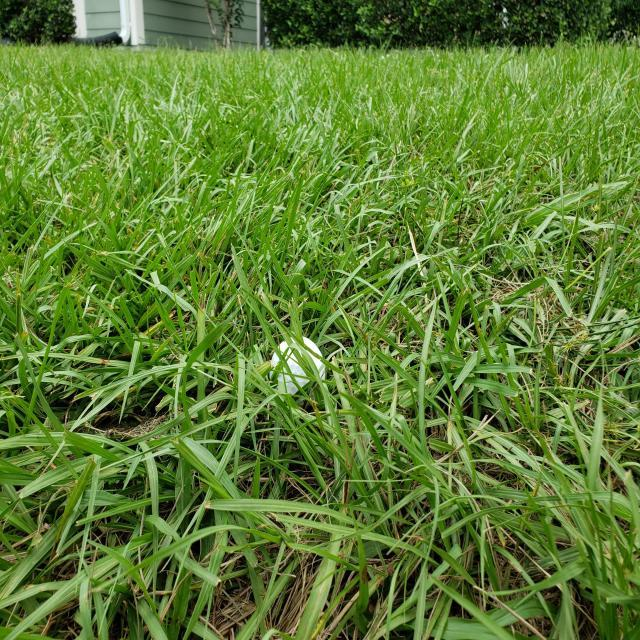golfball: (268, 332, 328, 410)
